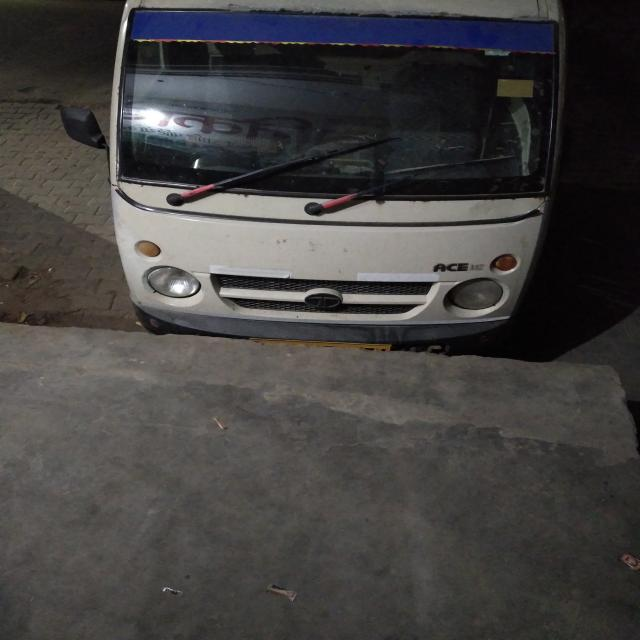tempo: (76, 5, 609, 347)
